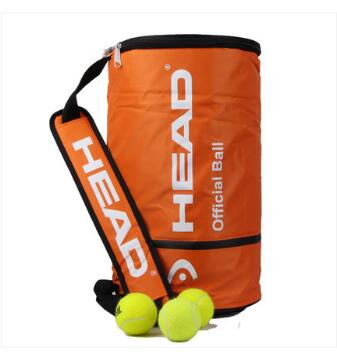tennis_ball: (112, 292, 158, 337), (158, 299, 199, 343), (176, 287, 214, 328)
